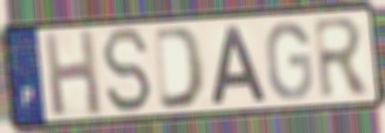A: (208, 23, 268, 108)
D: (151, 24, 209, 112)
G: (263, 19, 315, 103)
H: (41, 26, 105, 119)
R: (311, 14, 374, 102)
S: (99, 25, 154, 116)
